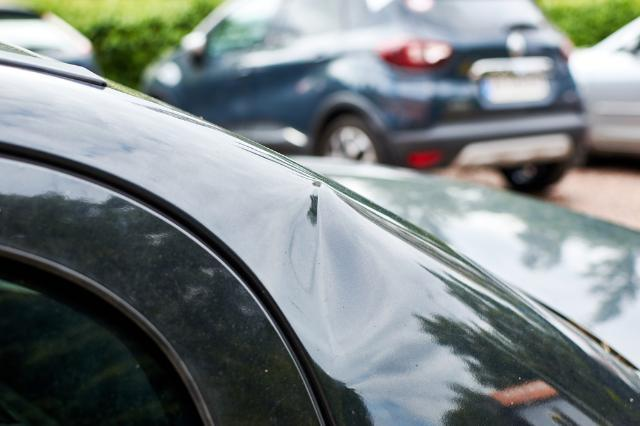dent: (275, 183, 386, 354)
